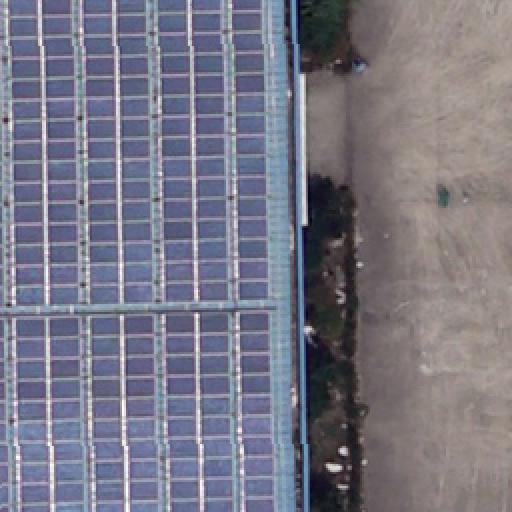solar-panel: (0, 0, 284, 512)
